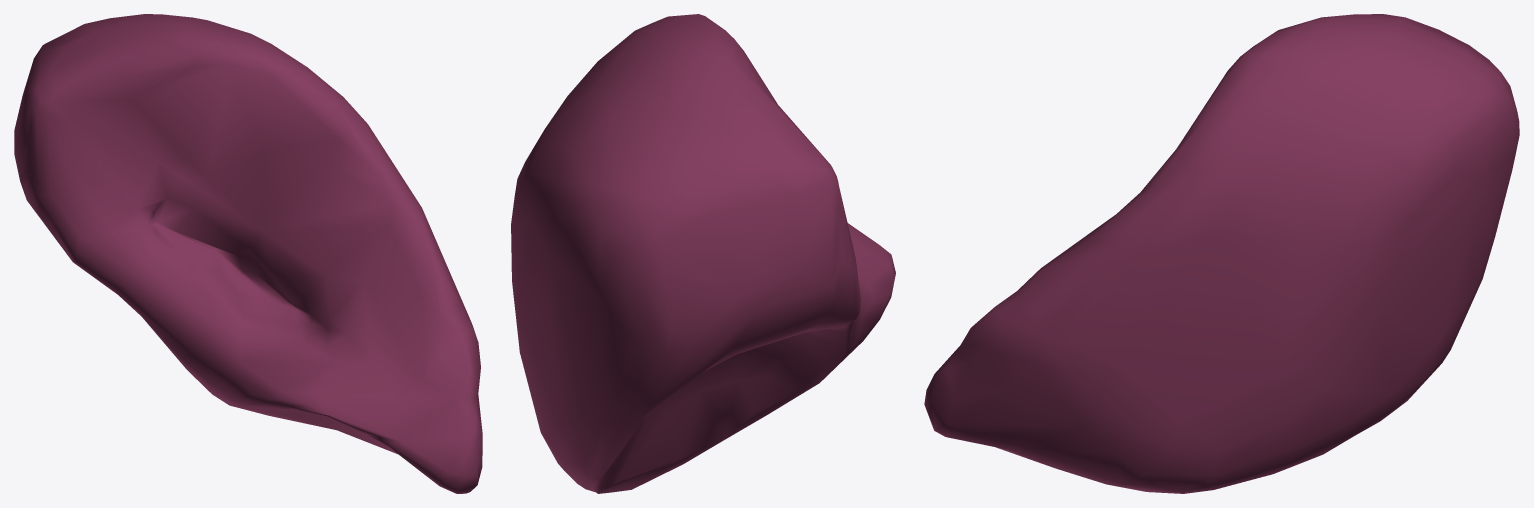
The model's file is linfatico-spleen.glb.
The picture shows the model from 3 angles, left to right: view 1: azimuth 30°, elevation 25°; view 2: azimuth 150°, elevation 25°; view 3: azimuth 270°, elevation 25°; orthographic projection. The views are drawn at different scales.
Parts seen in each view (by area): view 1: Spleen; view 2: Spleen; view 3: Spleen.
Part boxes in pixels (x1,y1,x2,y2): Spleen: (14,14,482,493); Spleen: (511,14,895,493); Spleen: (924,14,1519,493).
Bounding box in the file's own units: 0.0582 × 0.0702 × 0.0951.
